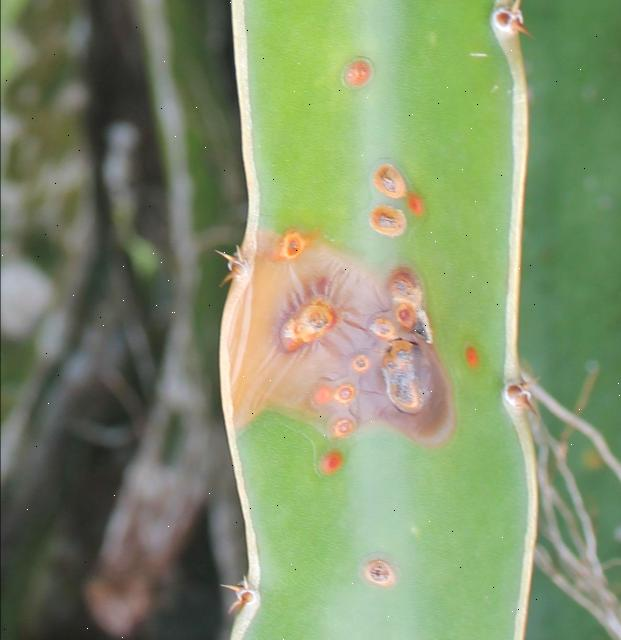stemcanker: (244, 49, 454, 489)
